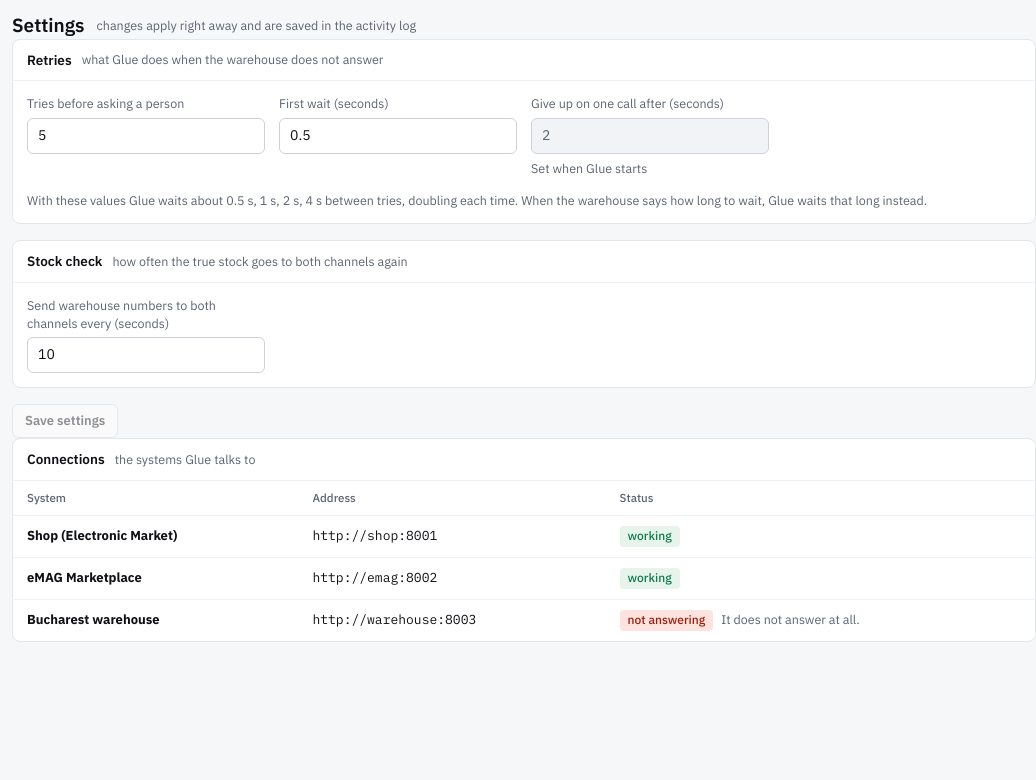
Test case: shows why the API refused the change
Replace the text in the number field labelled "Tries before asking a person" with "3" at (146, 136), box [27, 118, 265, 154]
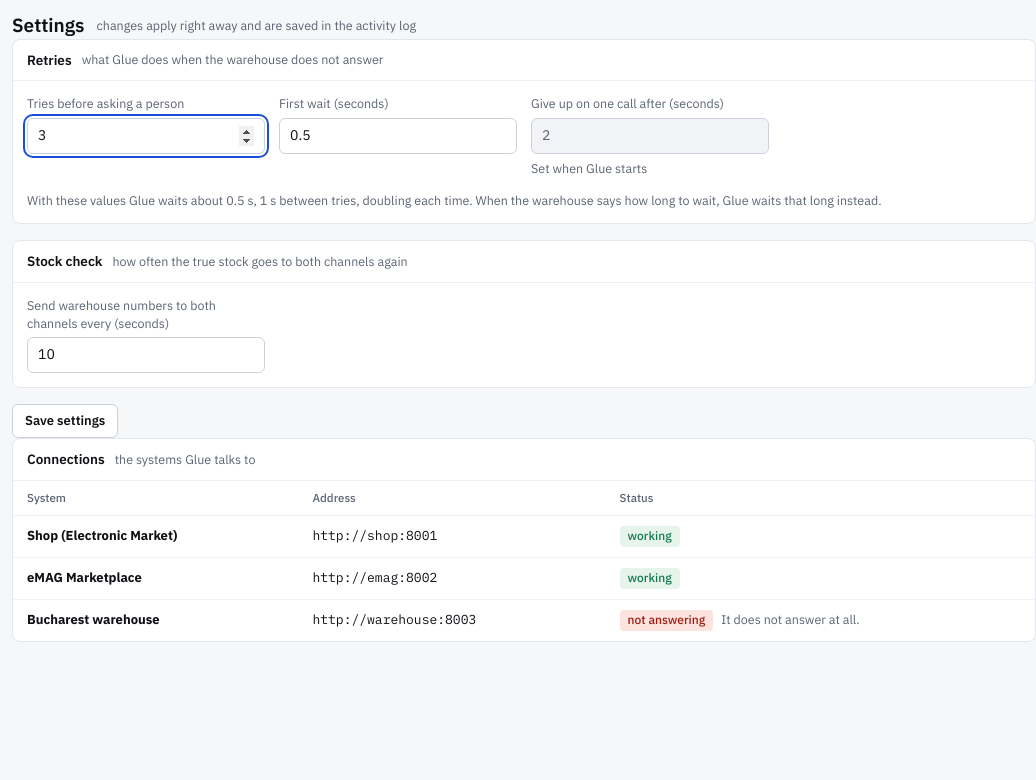
Click the button "Save settings" at (65, 421), box [12, 404, 118, 438]
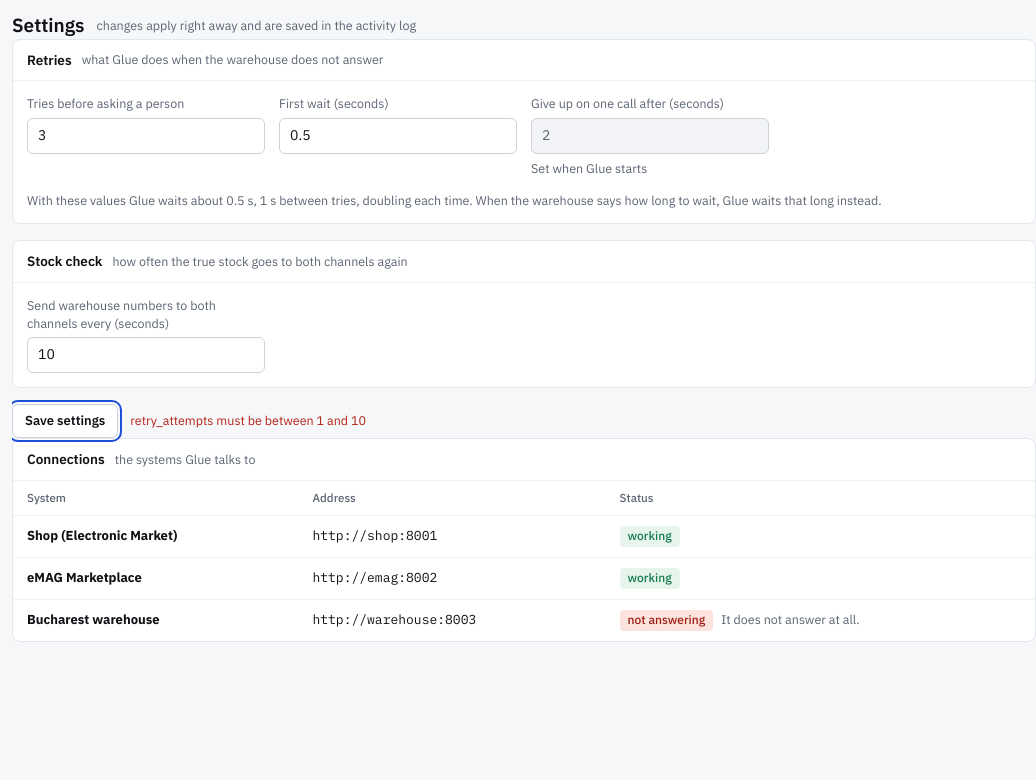
Expected: the message reads "retry_attempts must be between 1 and 10", [130, 412, 366, 428]
